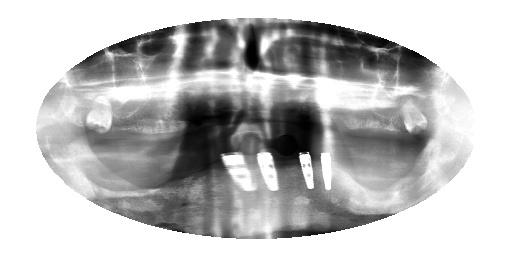Implant: (253, 150, 284, 191), (295, 149, 322, 192), (319, 147, 334, 190)
